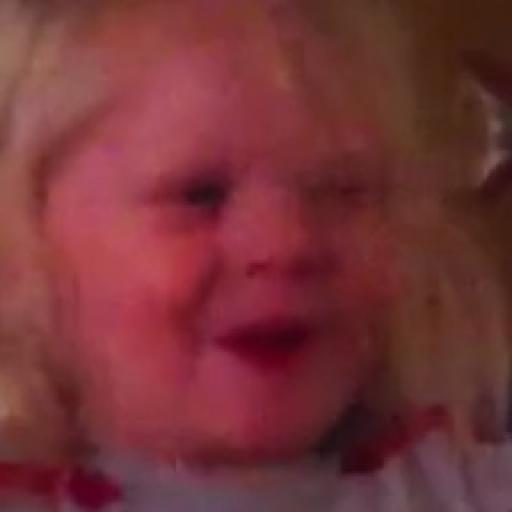Autism: (72, 25, 436, 431)
